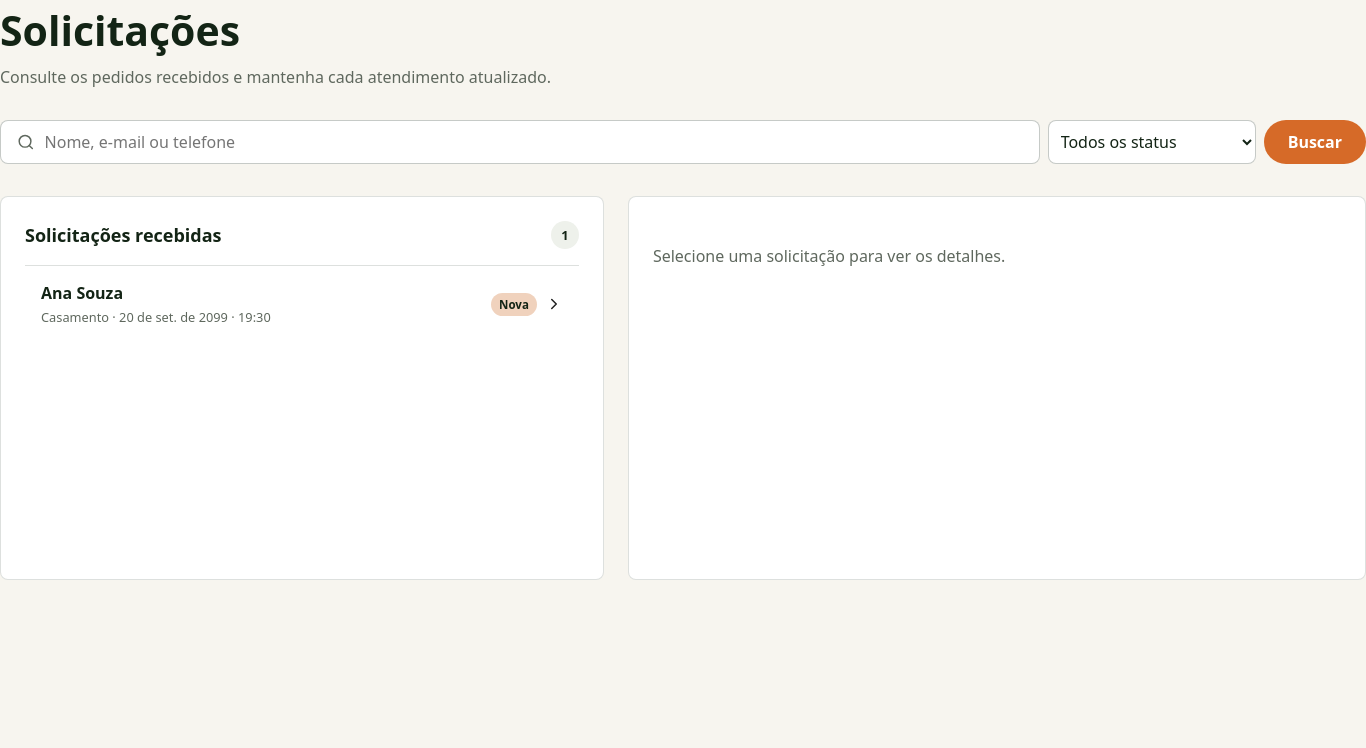
Test: AdminQuoteRequestsPage › deletes after confirmation, clears selection and refreshes the request list
The image size is (1366, 748).
Click the button "Ana Souza Casamento · 20 de set. de 2099 · 19:30 Nova" at (82, 293), box [25, 265, 579, 342]
(page scrolled)
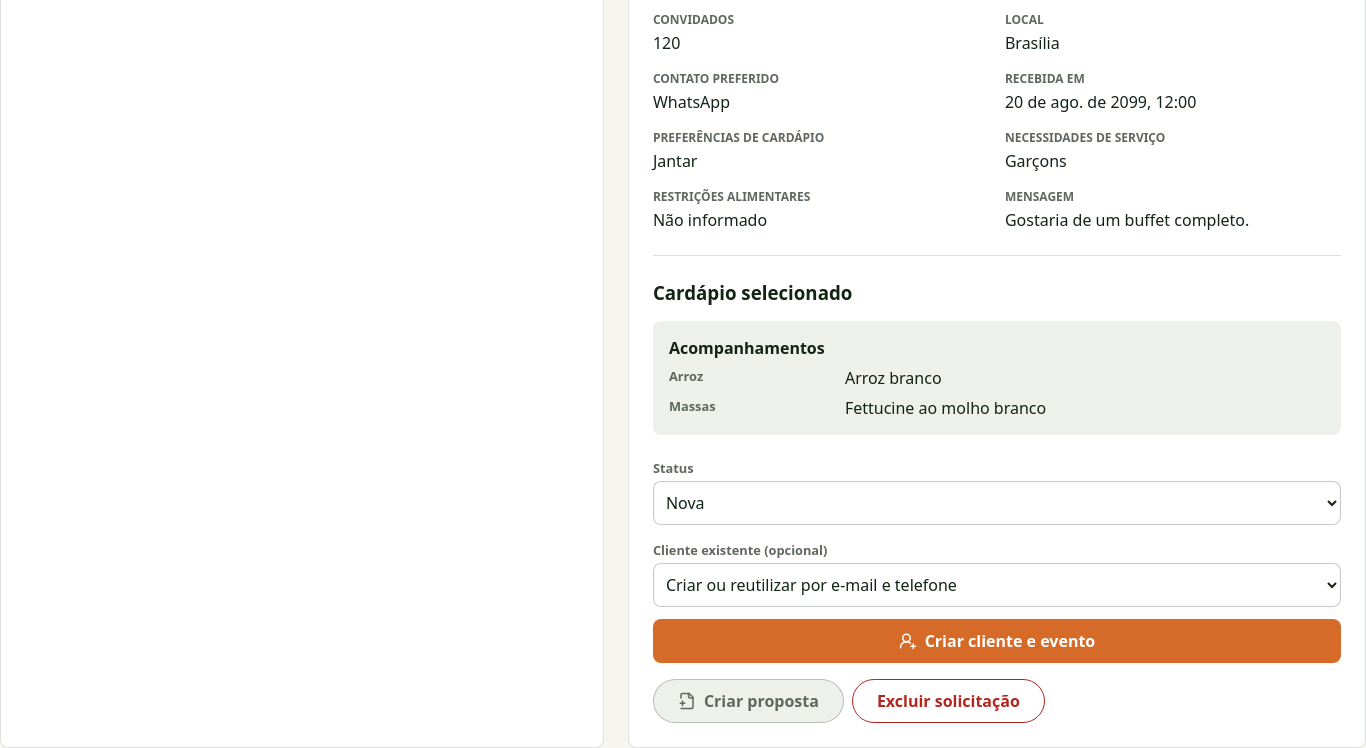
Click the button "Excluir solicitação" at (948, 701), box [852, 679, 1045, 723]
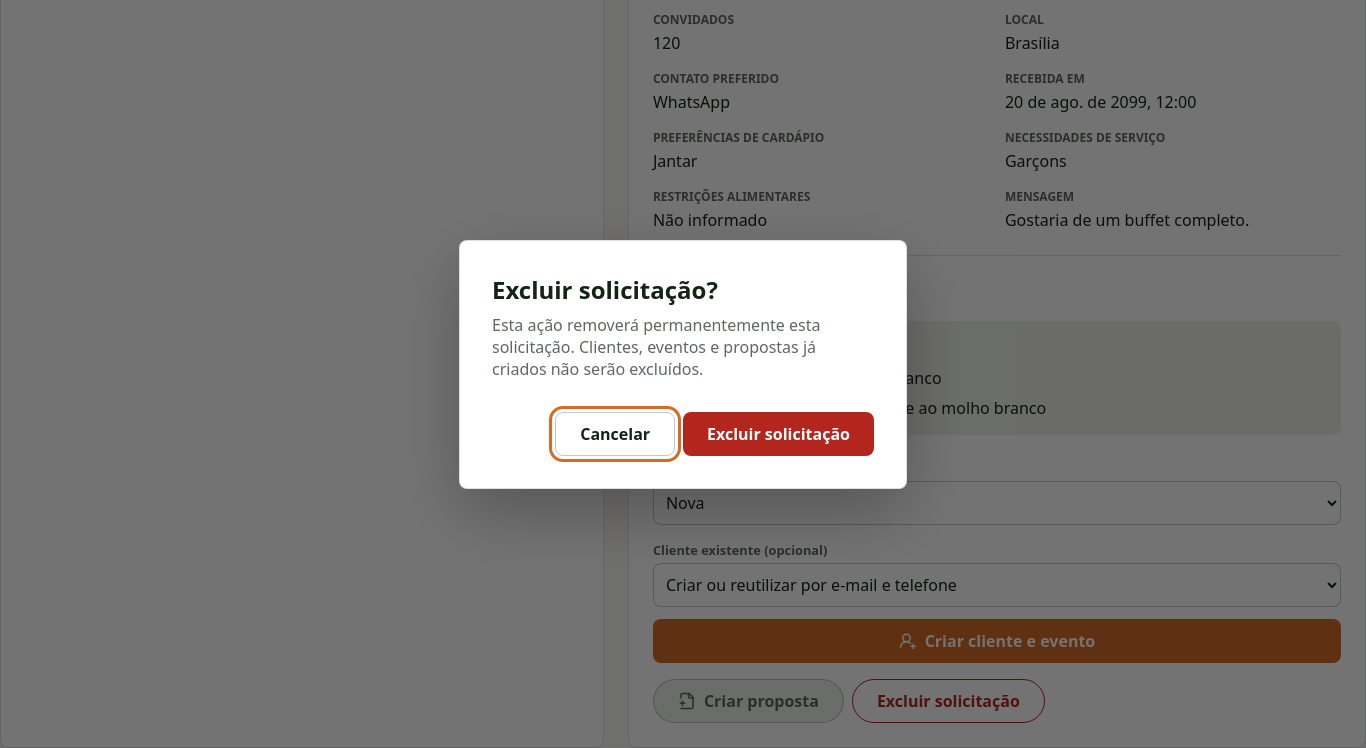
Click the button "Excluir solicitação" at (779, 434), box [683, 412, 874, 456]
(page scrolled)
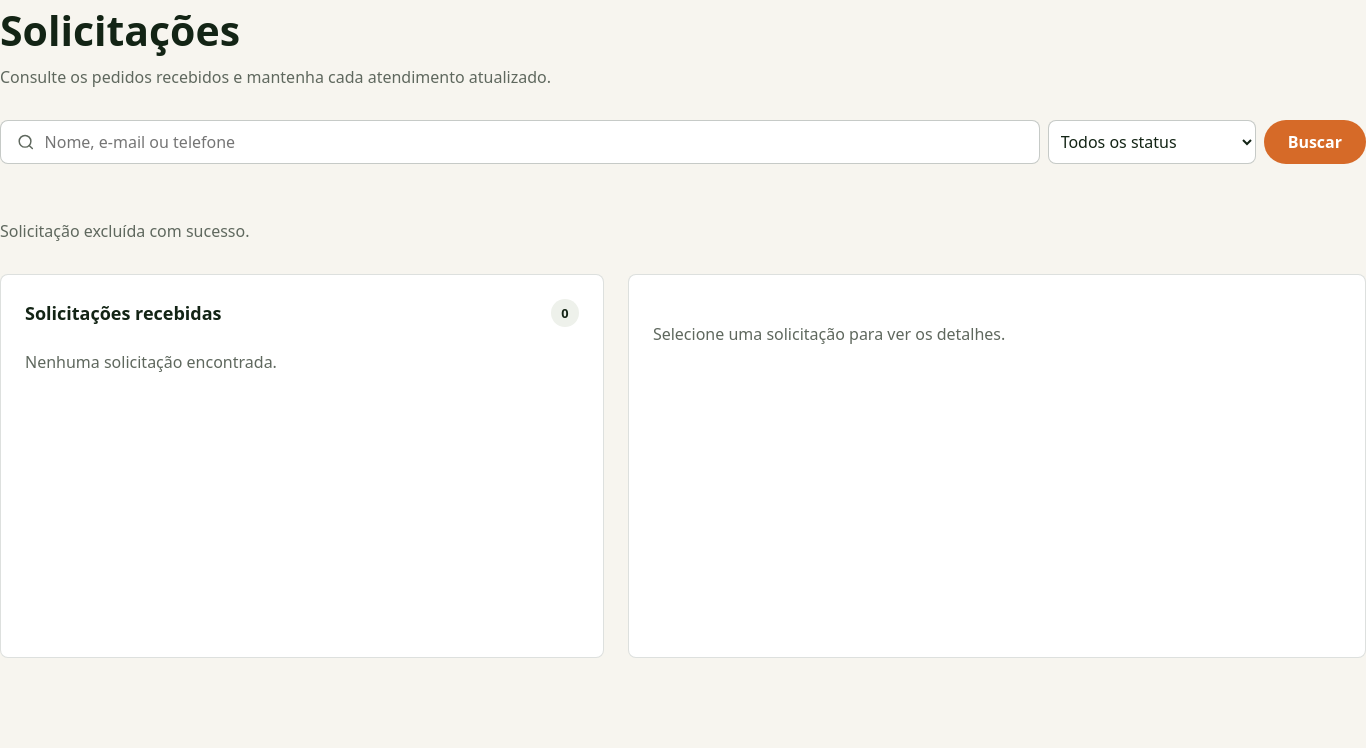
Expected: the text "Solicitação excluída com sucesso." is shown, [0, 220, 250, 242]
Expected: the text "Selecione uma solicitação para ver os detalhes." is shown, [653, 323, 1005, 345]
